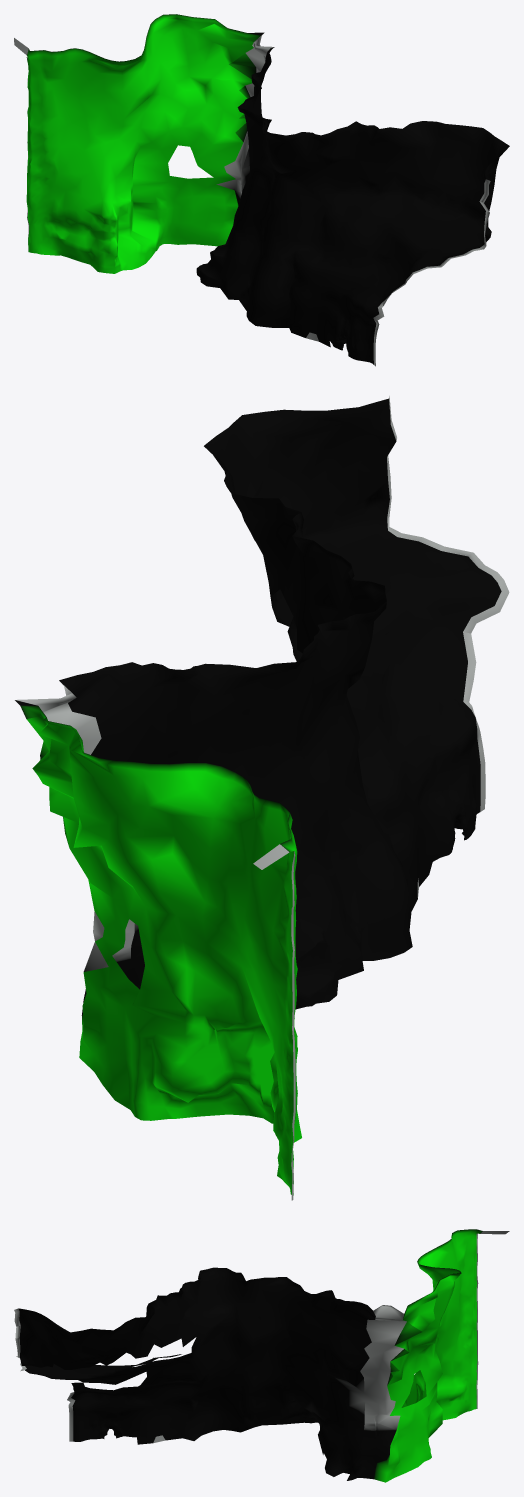
The picture shows the model from 3 angles, top to bottom: view 1: azimuth 30°, elevation 25°; view 2: azimuth 150°, elevation 25°; view 3: azimuth 270°, elevation 25°; orthographic projection. The views are drawn at different scales.
Parts seen in each view (by area): view 1: G:\FFXIV-MapTools\exports\k5f1\bg\ex4\03_kld_k5\fld\k5f1\bgp (×4); view 2: G:\FFXIV-MapTools\exports\k5f1\bg\ex4\03_kld_k5\fld\k5f1\bgp (×4); view 3: G:\FFXIV-MapTools\exports\k5f1\bg\ex4\03_kld_k5\fld\k5f1\bgp (×3).
Boxes of the visible parts, x1=… form: G:\FFXIV-MapTools\exports\k5f1\bg\ex4\03_kld_k5\fld\k5f1\bgp (×4): x1=14, y1=14, x2=509, y2=366; G:\FFXIV-MapTools\exports\k5f1\bg\ex4\03_kld_k5\fld\k5f1\bgp (×4): x1=15, y1=396, x2=509, y2=1200; G:\FFXIV-MapTools\exports\k5f1\bg\ex4\03_kld_k5\fld\k5f1\bgp (×3): x1=14, y1=1229, x2=509, y2=1482.
Size of the model in its own units: 324 by 264 by 605.
